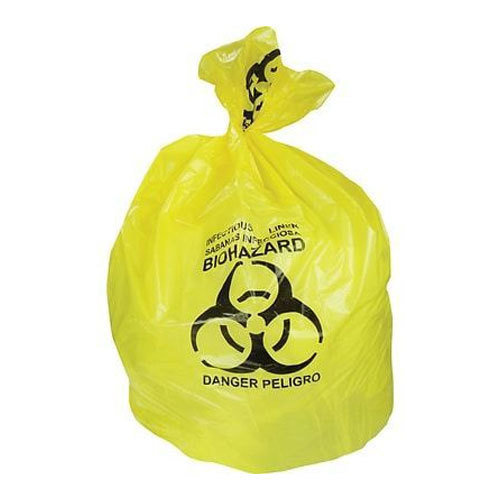plastic_bag: (100, 19, 402, 476)
